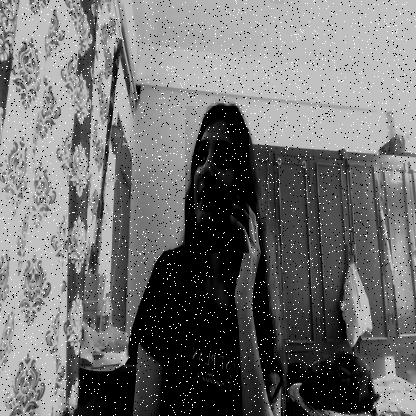Distracted: (185, 106, 249, 253)
